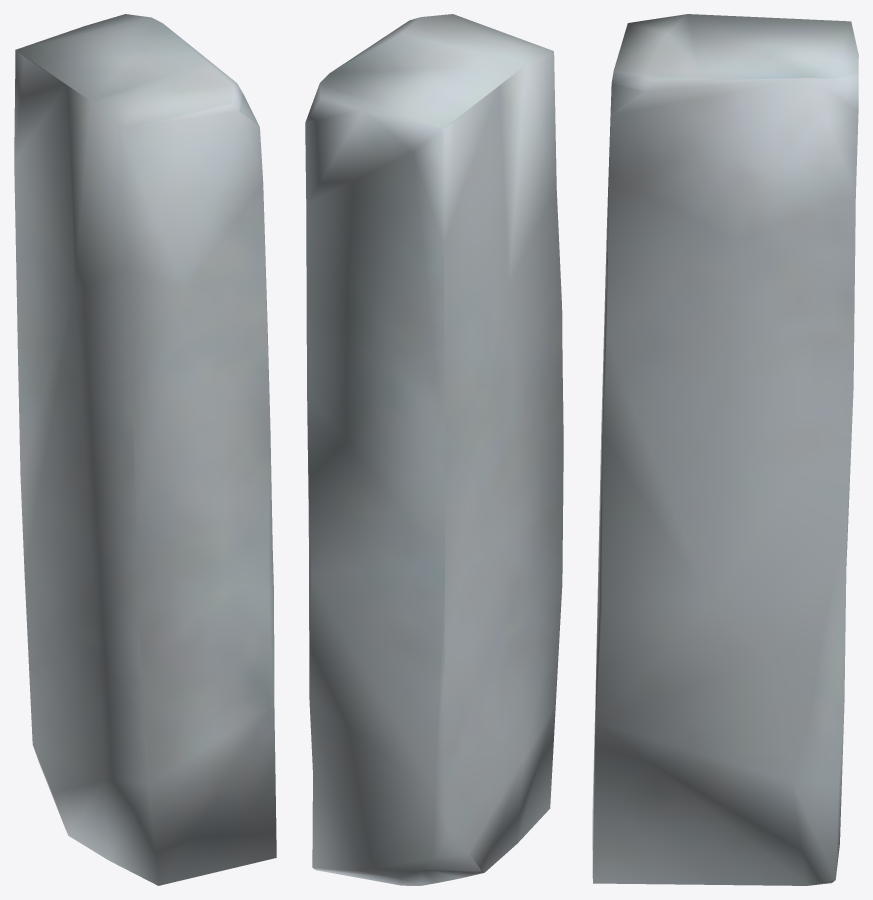
File: P_CubicCliffPiece09.obj
3 renders of one model, left to right at view 1: azimuth 30°, elevation 25°; view 2: azimuth 150°, elevation 25°; view 3: azimuth 270°, elevation 25°, orthographic. The views are drawn at different scales.
Size of the model in its own units: 4.26 by 21.85 by 6.55.
